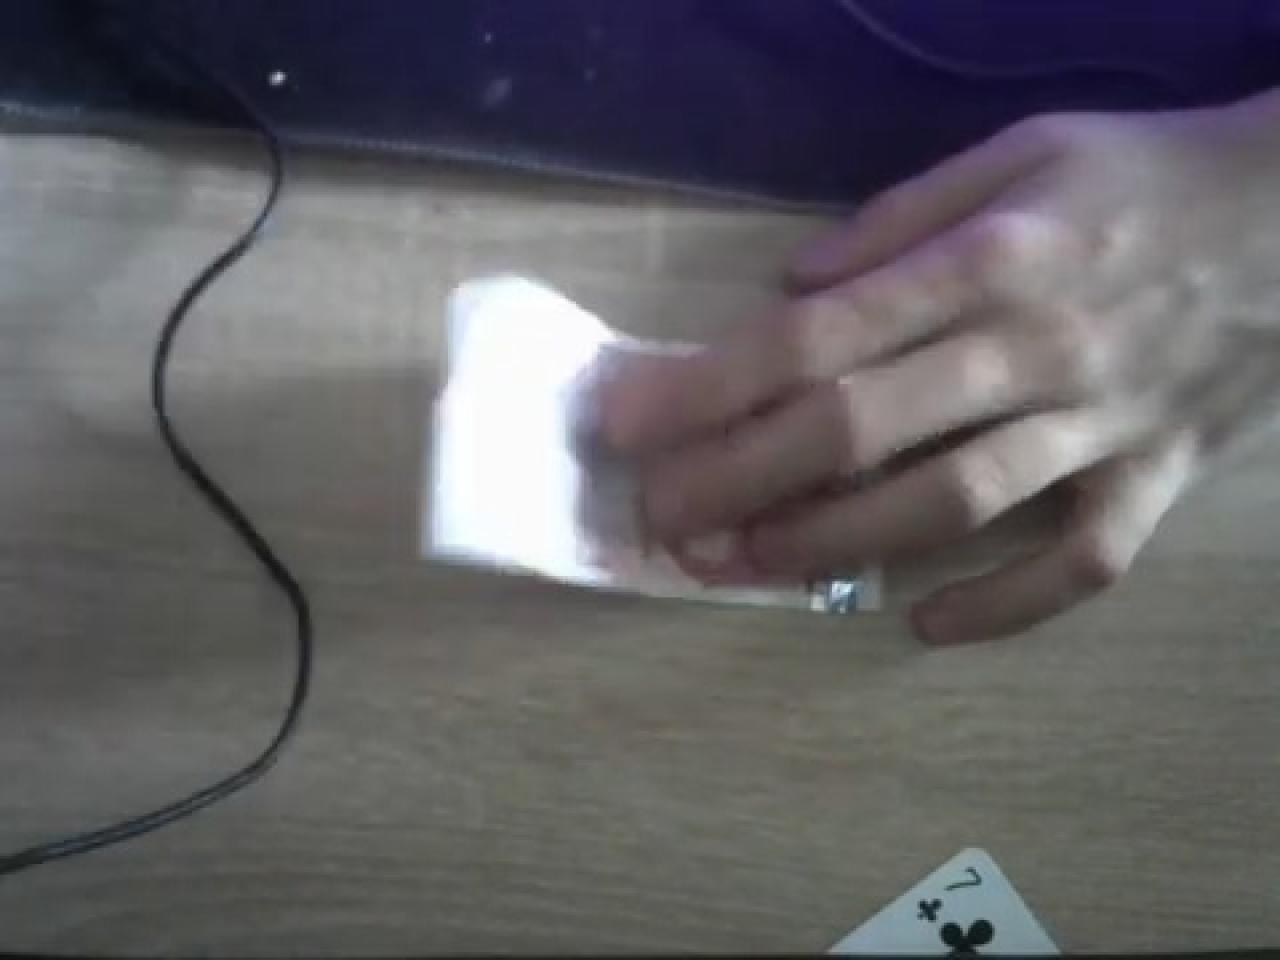5leva: (416, 274, 875, 608)
